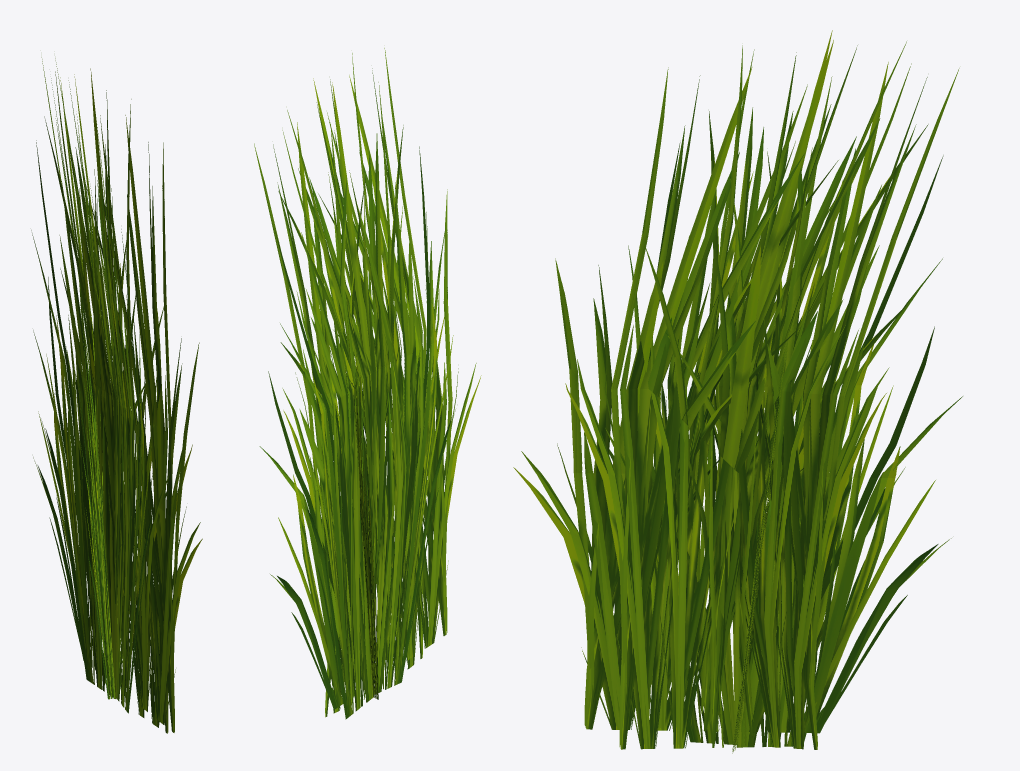
File: llervas.fbx
3 views of the same model, side by side, from view 1: azimuth 30°, elevation 25°; view 2: azimuth 150°, elevation 25°; view 3: azimuth 270°, elevation 25° (orthographic). The views are drawn at different scales.
Visible parts, largest first — view 1: llerbas; view 2: llerbas; view 3: llerbas.
Part boxes in pixels (x1=…): llerbas: x1=31, y1=57, x2=202, y2=733; llerbas: x1=254, y1=48, x2=481, y2=719; llerbas: x1=513, y1=30, x2=962, y2=753.
Size of the model in its own units: 54.9 by 713 by 443.
